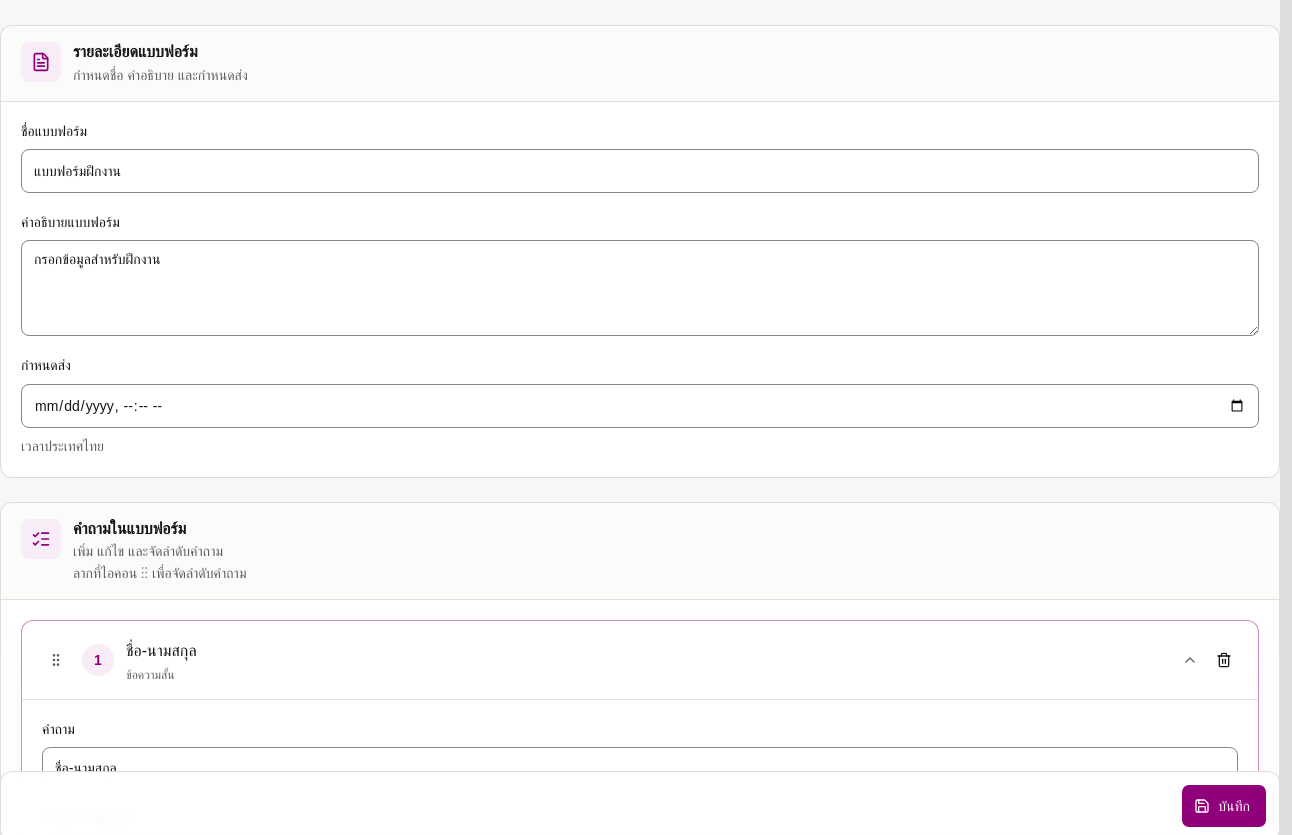
Test: FormBuilder draft editing › saves details and questions together with one expected version
The image size is (1292, 835).
Step 1. Type " 2569" into the field labelled "ชื่อแบบฟอร์ม" → point(640, 171), box x1=21 y1=149 x2=1259 y2=193
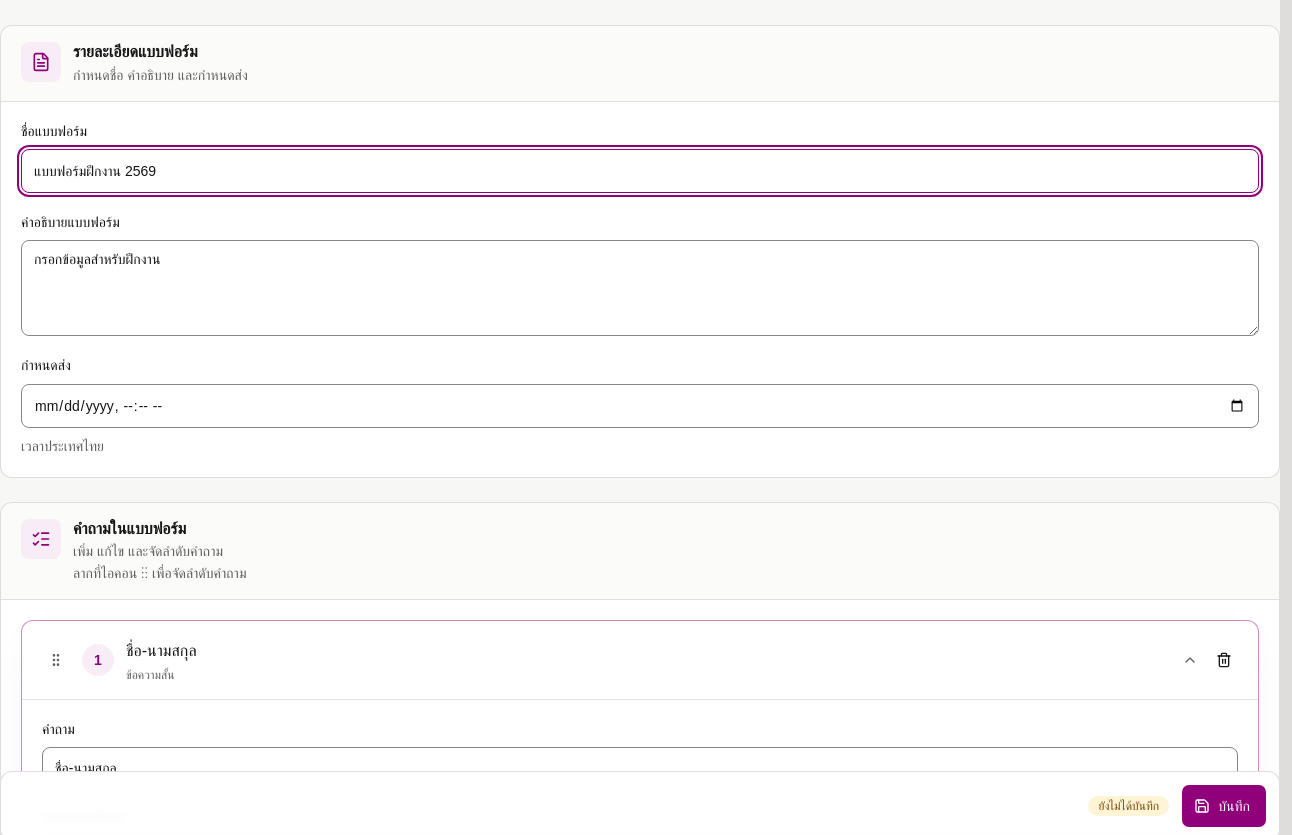
Step 2. Type "2026-10-01T17:00" into the field labelled "กำหนดส่ง" → point(640, 406), box x1=21 y1=384 x2=1259 y2=428
(page scrolled)
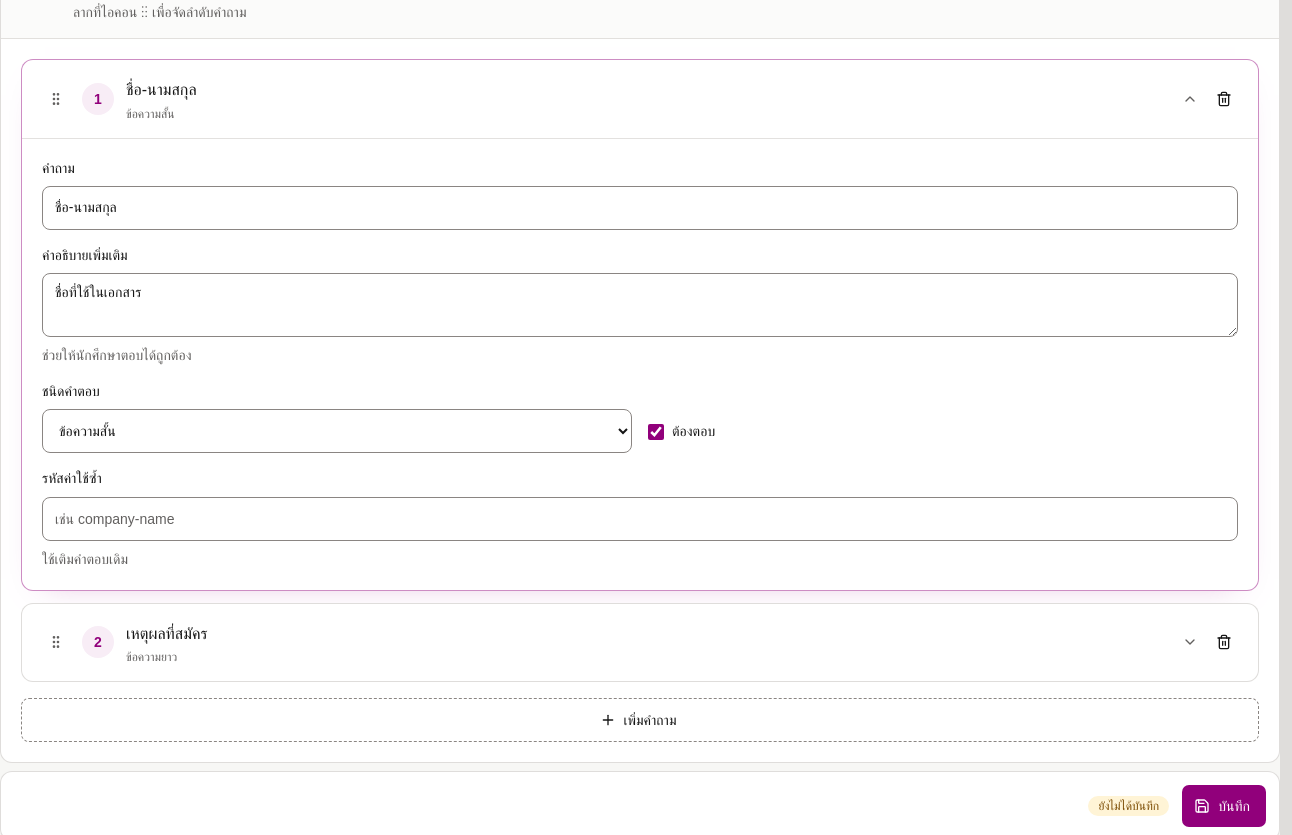
Step 3. Click the button "เพิ่มคำถาม" → point(640, 720), box x1=21 y1=698 x2=1259 y2=742
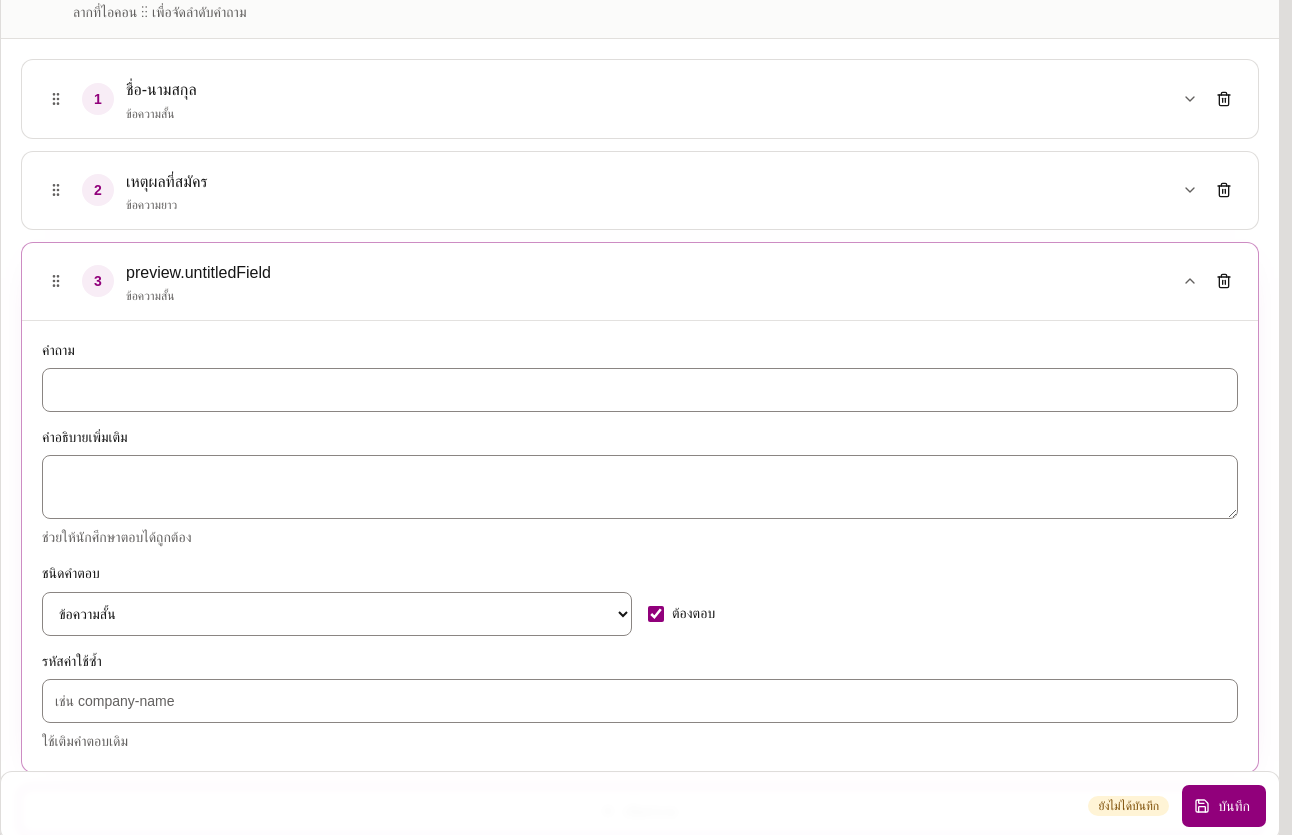
Step 4. Type "แผนการทำงาน" into the field labelled "คำถาม" → point(640, 390), box x1=42 y1=368 x2=1238 y2=412
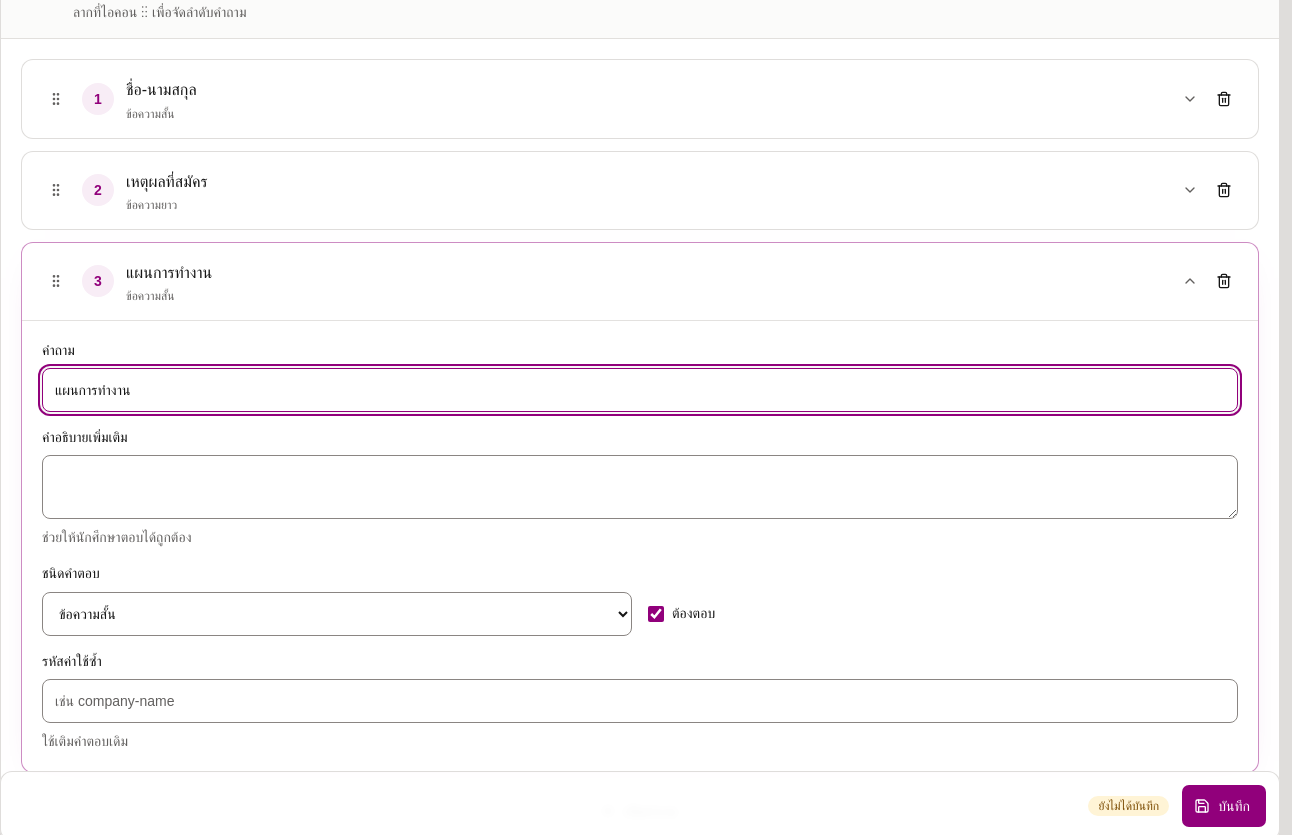
Expected: the text "ยังไม่ได้บันทึก" is shown once, x1=1088 y1=796 x2=1169 y2=816
Step 5. Click the button "บันทึก" → point(1224, 806), box x1=1181 y1=784 x2=1267 y2=828
(page scrolled)
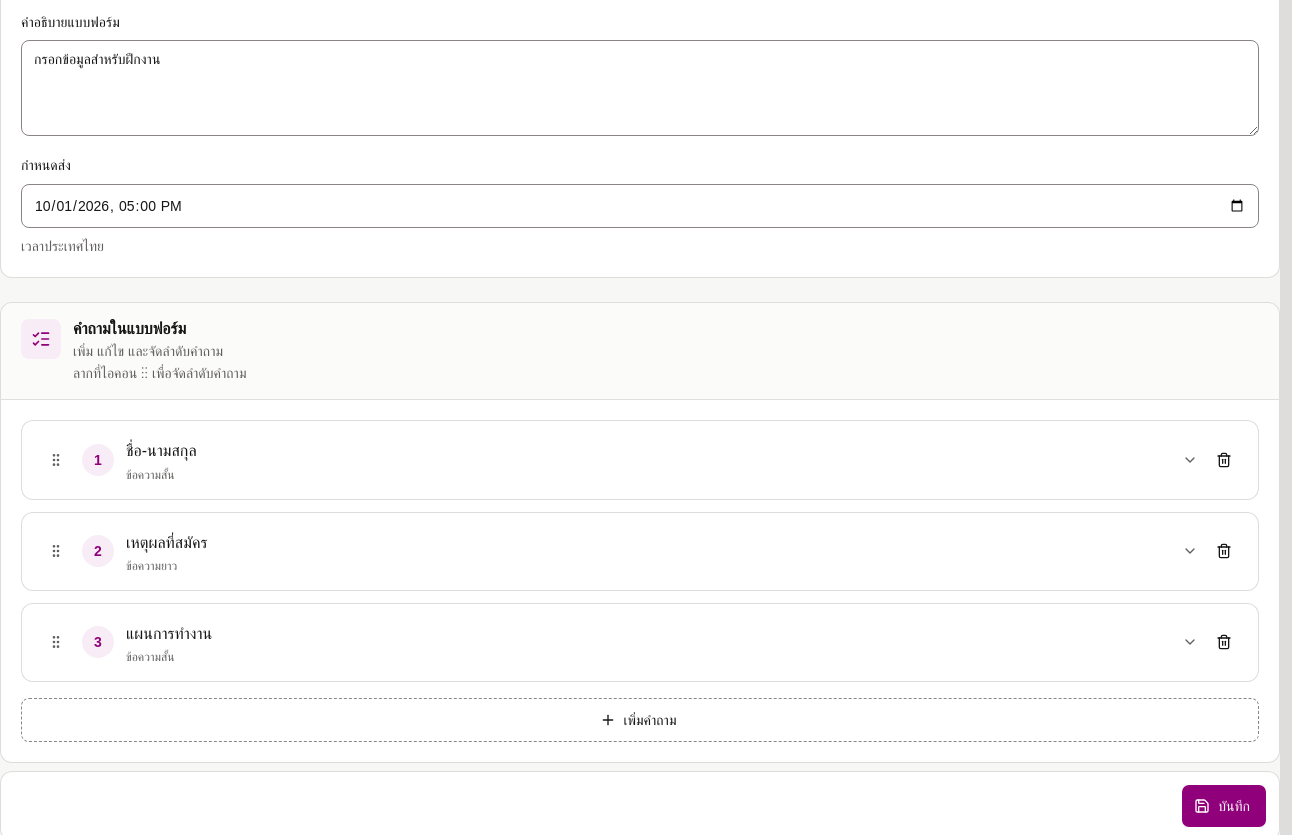
Expected: the text "ยังไม่ได้บันทึก" is gone
